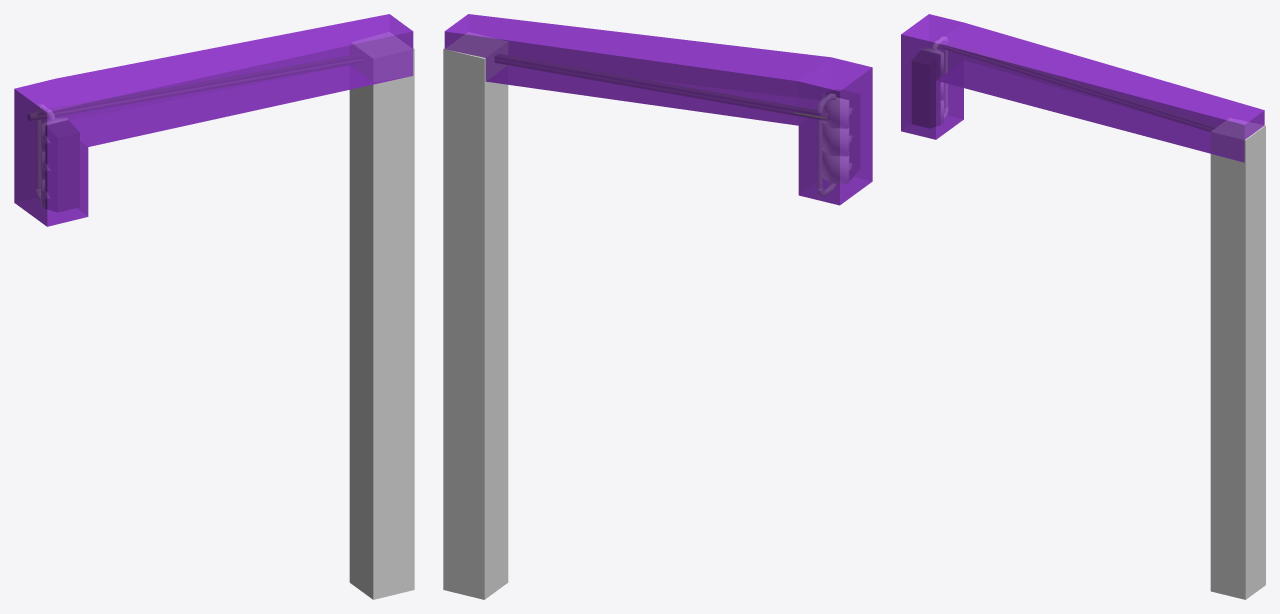
The model's file is eca_traffic_high_ns_right.dae.
The picture shows the model from 3 angles, left to right: view 1: azimuth 30°, elevation 25°; view 2: azimuth 150°, elevation 25°; view 3: azimuth 330°, elevation 25°; orthographic projection. The views are drawn at different scales.
Parts seen in each view (by area): view 1: Colmesh-1, eca_traffic_high_ns_right_a20, eca_traffic_high_ns_right_a600; view 2: Colmesh-1, eca_traffic_high_ns_right_a20, eca_traffic_high_ns_right_a600; view 3: Colmesh-1, eca_traffic_high_ns_right_a20, eca_traffic_high_ns_right_a600.
Part boxes in pixels (left/top/right/bottom): Colmesh-1: left=14, top=14, right=414, bottom=599; eca_traffic_high_ns_right_a20: left=34, top=54, right=362, bottom=211; eca_traffic_high_ns_right_a600: left=28, top=59, right=362, bottom=206; Colmesh-1: left=443, top=14, right=872, bottom=599; eca_traffic_high_ns_right_a20: left=495, top=54, right=859, bottom=179; eca_traffic_high_ns_right_a600: left=495, top=59, right=850, bottom=196; Colmesh-1: left=901, top=14, right=1265, bottom=599; eca_traffic_high_ns_right_a20: left=912, top=43, right=1217, bottom=131; eca_traffic_high_ns_right_a600: left=921, top=37, right=1211, bottom=130.
Bounding box in the file's own units: 5.06 × 0.9733 × 7.32.
